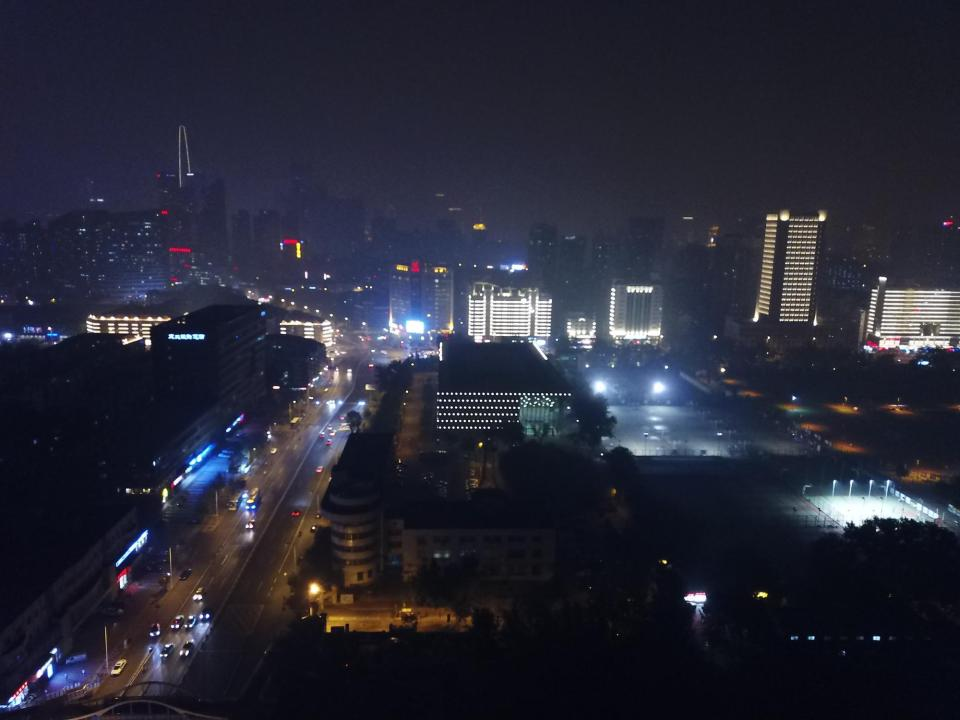bus: (246, 487, 260, 510), (226, 492, 242, 511), (290, 417, 299, 428)
car: (111, 660, 127, 676), (179, 642, 194, 657), (160, 644, 174, 658), (170, 615, 184, 629), (103, 607, 124, 616), (107, 600, 128, 608), (149, 623, 161, 637), (141, 565, 161, 573), (184, 615, 196, 628), (194, 587, 205, 601), (179, 569, 191, 581), (201, 606, 211, 620), (147, 558, 166, 565), (152, 549, 170, 556), (184, 518, 201, 524), (245, 519, 255, 528), (218, 452, 232, 458), (310, 524, 319, 533), (315, 511, 323, 519), (291, 509, 300, 516), (242, 490, 249, 498), (316, 466, 324, 472), (270, 448, 278, 454), (329, 430, 337, 436), (326, 424, 332, 430), (339, 414, 345, 420), (368, 362, 374, 368), (326, 439, 331, 445), (320, 432, 325, 438)
van: (65, 651, 87, 666)
